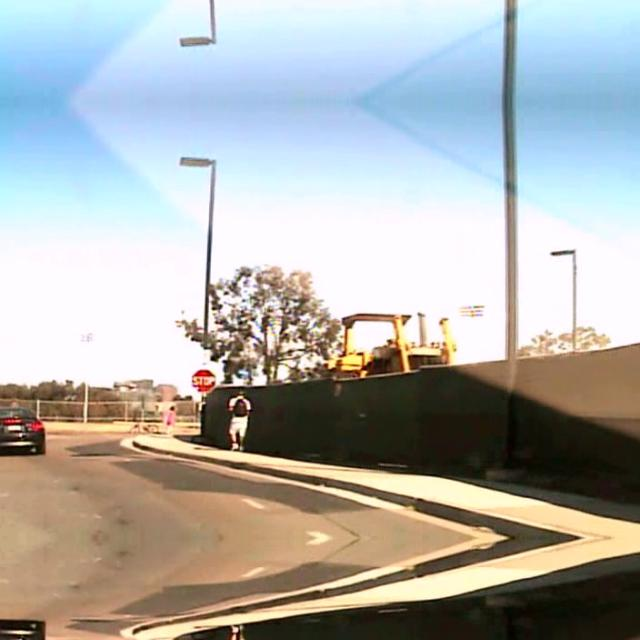stop: (191, 367, 215, 391)
